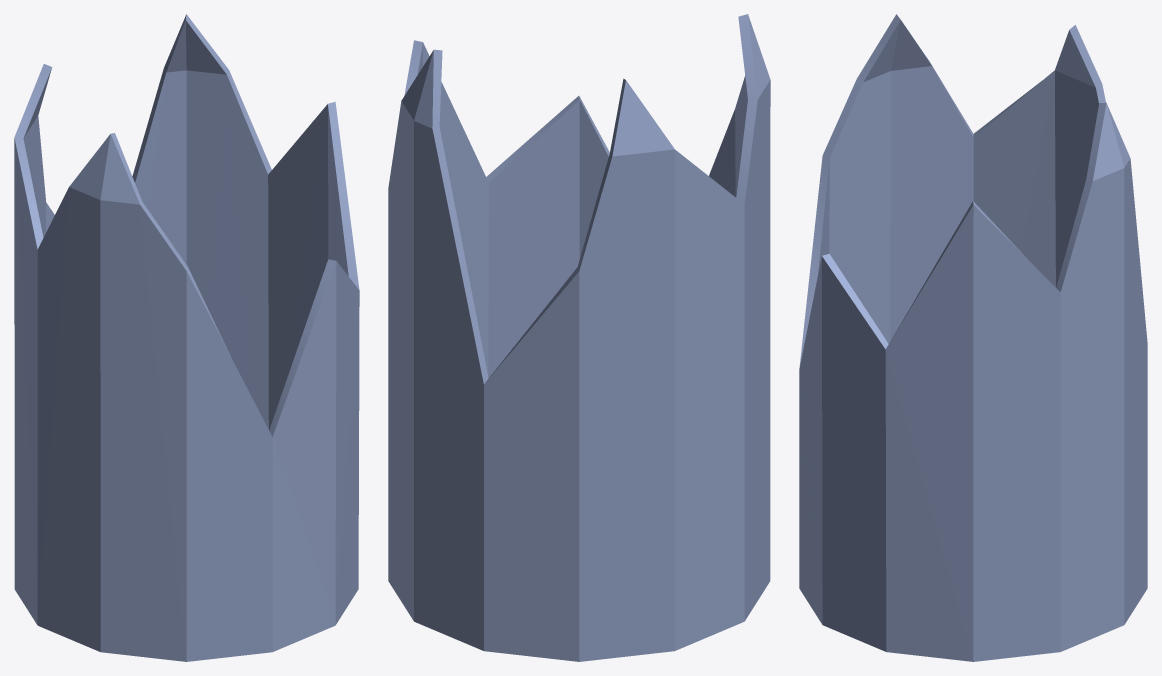
The model's file is bottle3broken1.fbx.
3 renders of one model, left to right at view 1: azimuth 30°, elevation 25°; view 2: azimuth 150°, elevation 25°; view 3: azimuth 270°, elevation 25°, orthographic. The views are drawn at different scales.
Parts seen in each view (by area): view 1: bottle3_broken1; view 2: bottle3_broken1; view 3: bottle3_broken1.
Boxes of the visible parts, box(x1,y1,x2,y2) form: bottle3_broken1: box(14, 14, 359, 661); bottle3_broken1: box(388, 14, 770, 661); bottle3_broken1: box(799, 14, 1147, 661).
Bounding box in the file's own units: 18.8 × 30.83 × 18.8.
